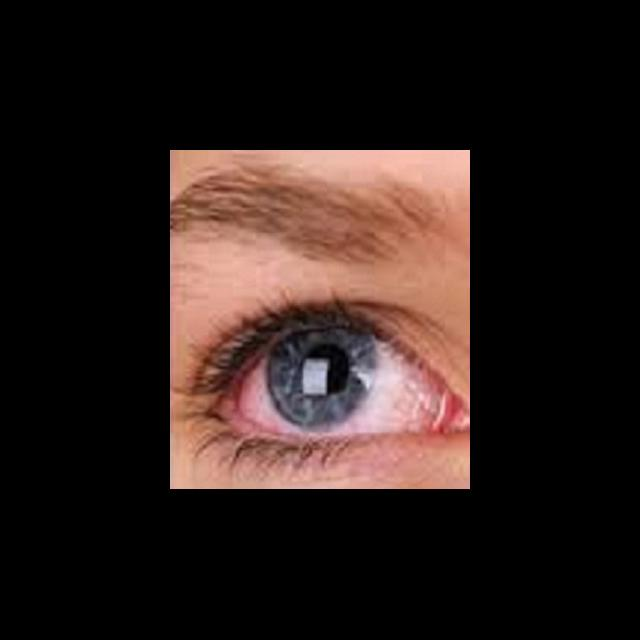eye: (231, 327, 436, 440)
iris: (268, 328, 376, 430)
